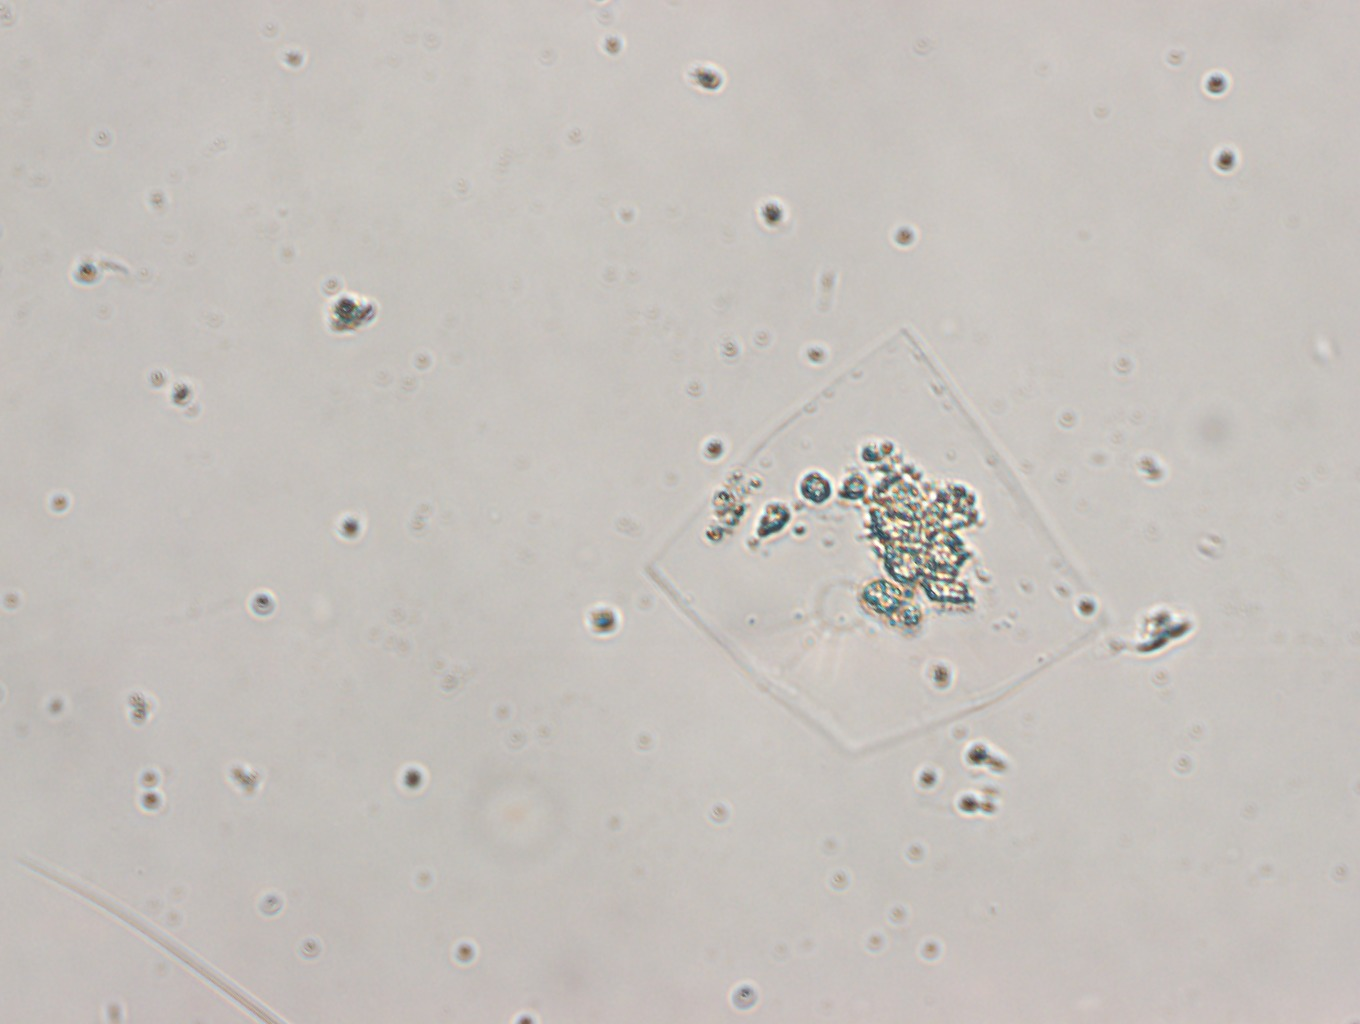helicotheca: (638, 321, 1111, 757)
